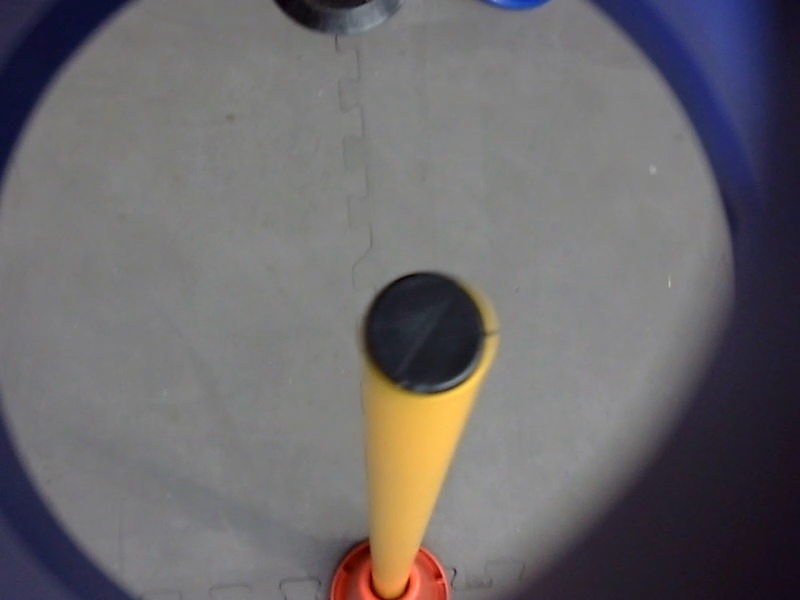tip: (346, 260, 507, 408)
